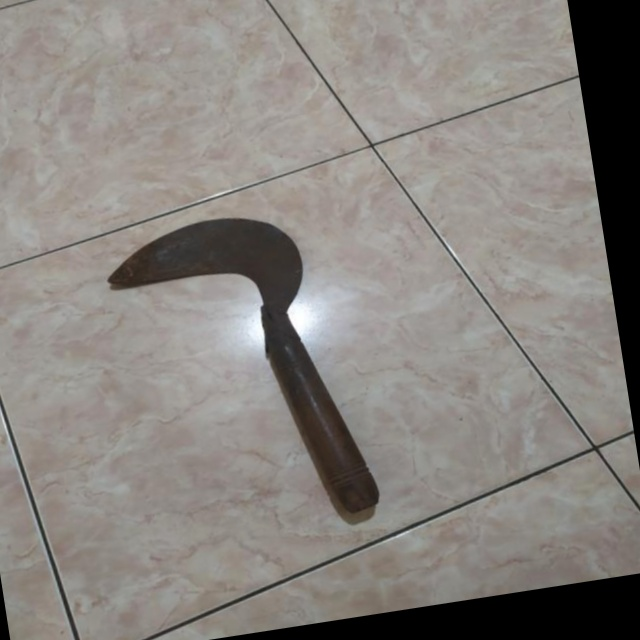Sharp-Object: (92, 180, 385, 568)
